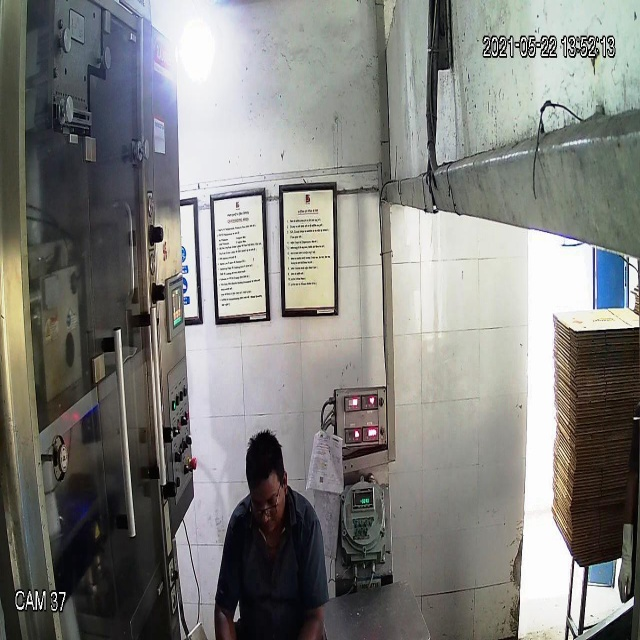Gafas: (249, 490, 282, 525)
